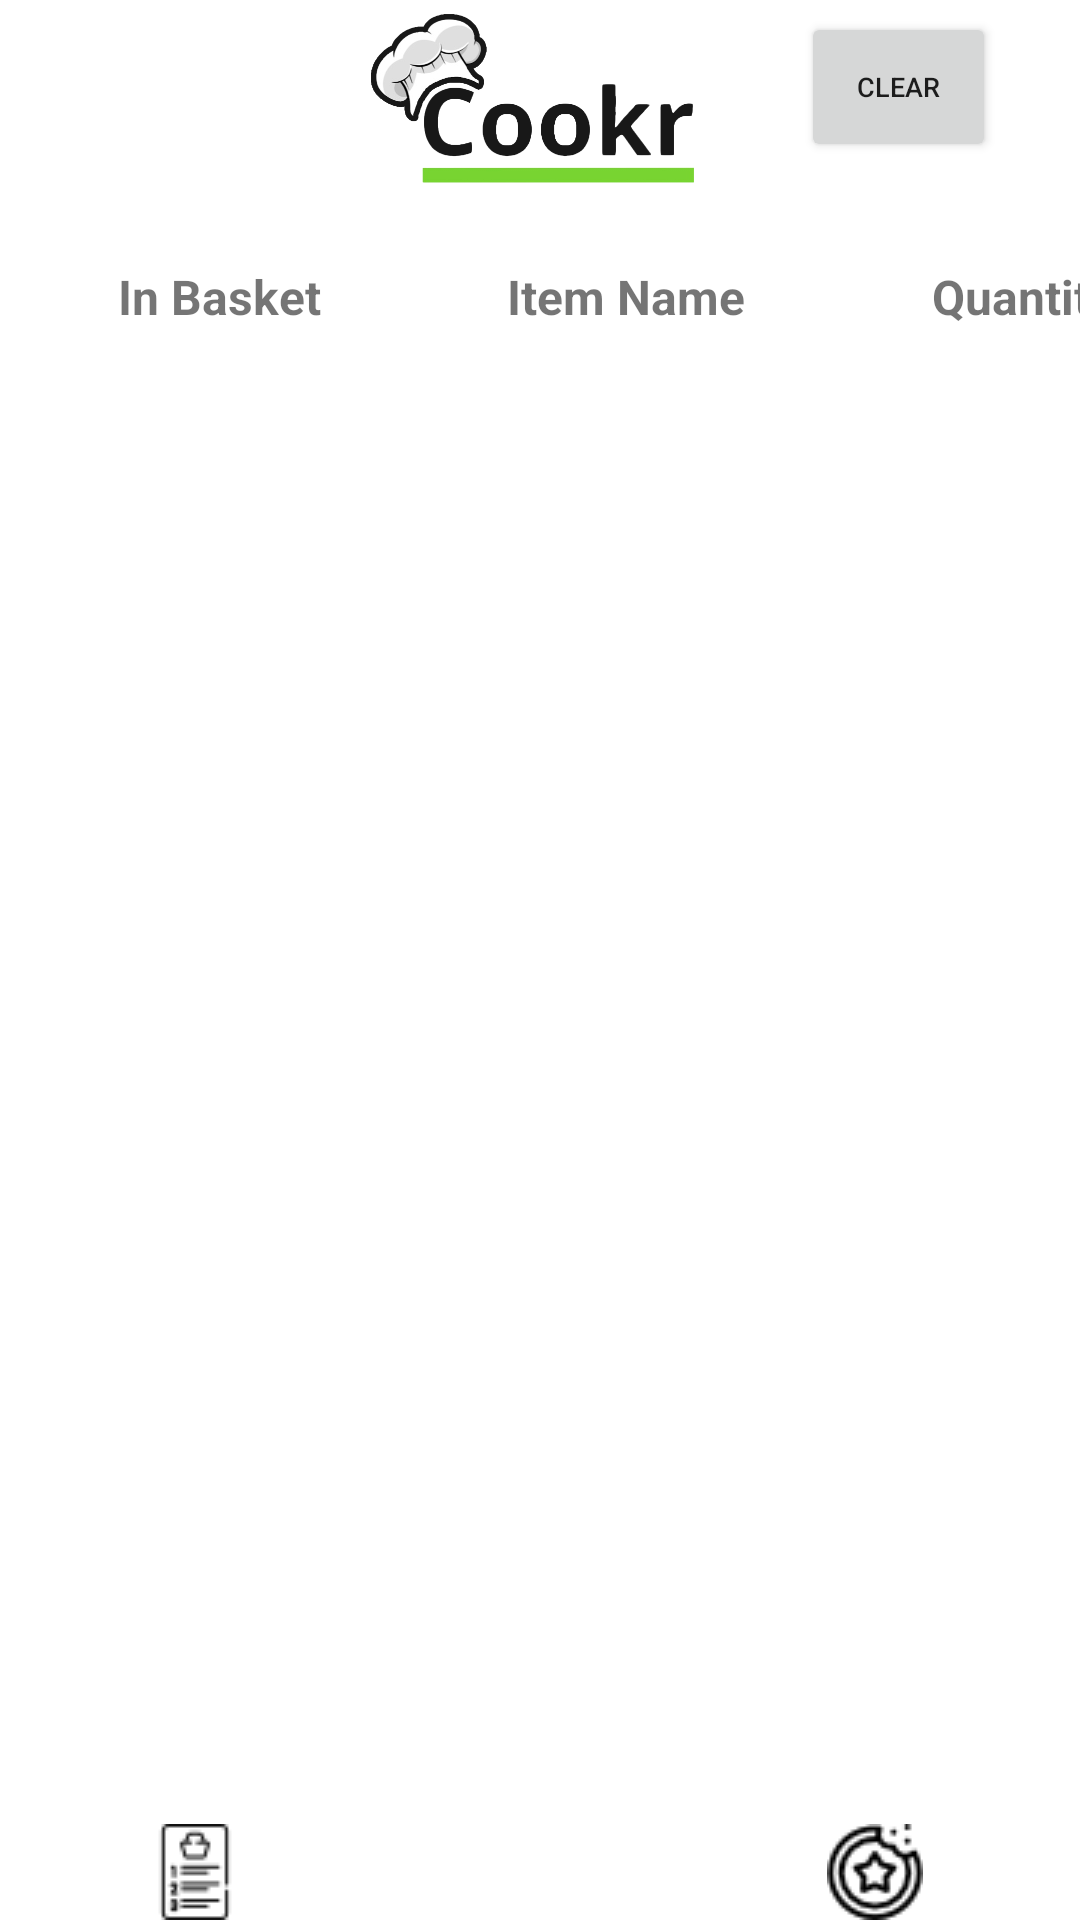

Screen size 1080w x 1920h. Icon name, then its box in pixels as (x1=x1, y1=y1, x2=x2, y2=y2):
lefavourites: (x1=827, y1=1824, x2=923, y2=1920)
thelist: (x1=161, y1=1824, x2=229, y2=1920)
